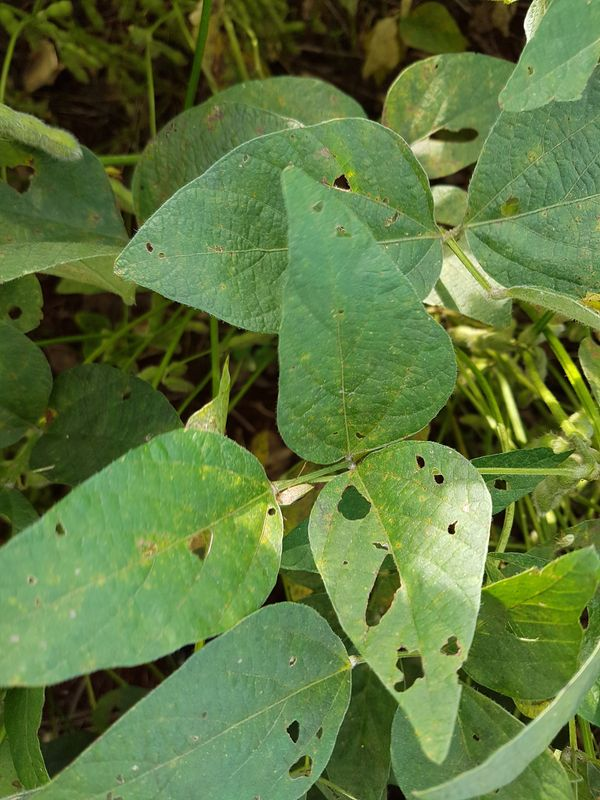Edessa_meditabunda: (261, 472, 318, 515)
